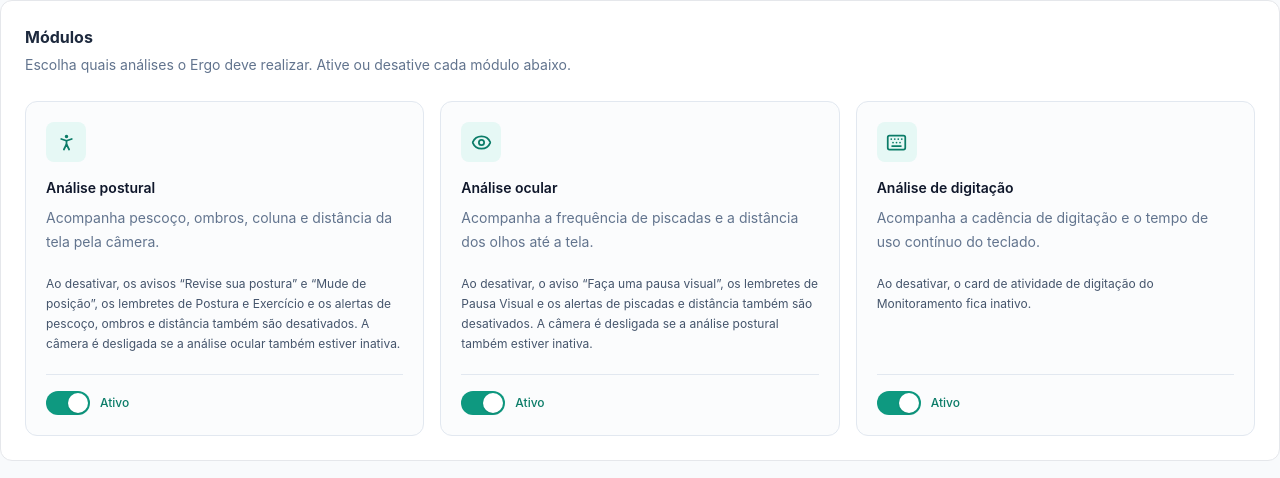
Test: Configurações → Módulos › desativa e reativa um módulo pelo command de ativação
The image size is (1280, 478).
Later steps or results of the test are not shown.
Click the 1st switch labelled "Ativo". click: (93, 403)
box: [46,391,140,415]
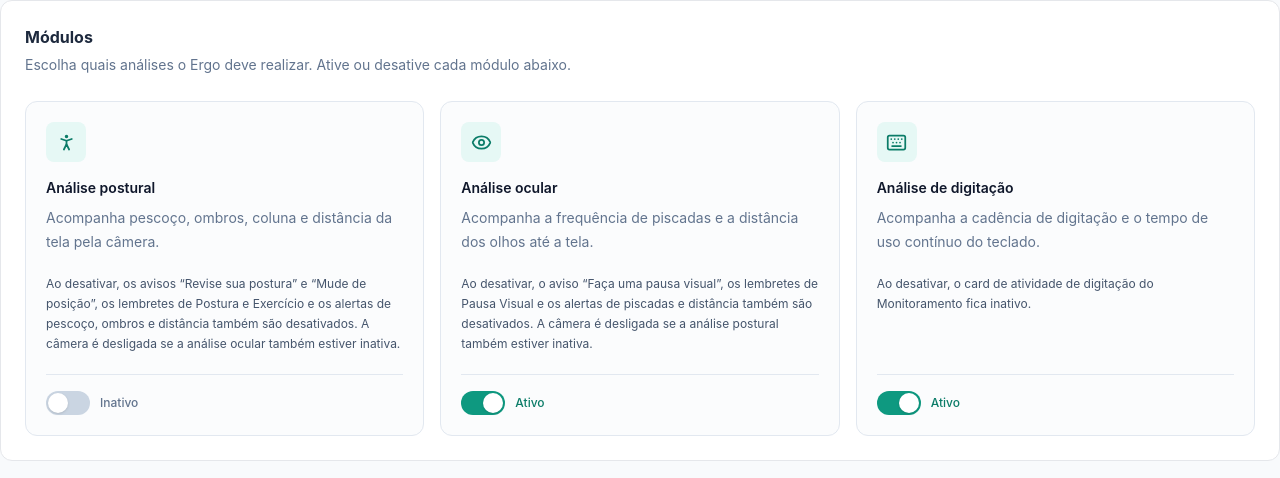
Check: the element that starts with "Análise postural" shows "Inativo", box [100,395,138,410]
